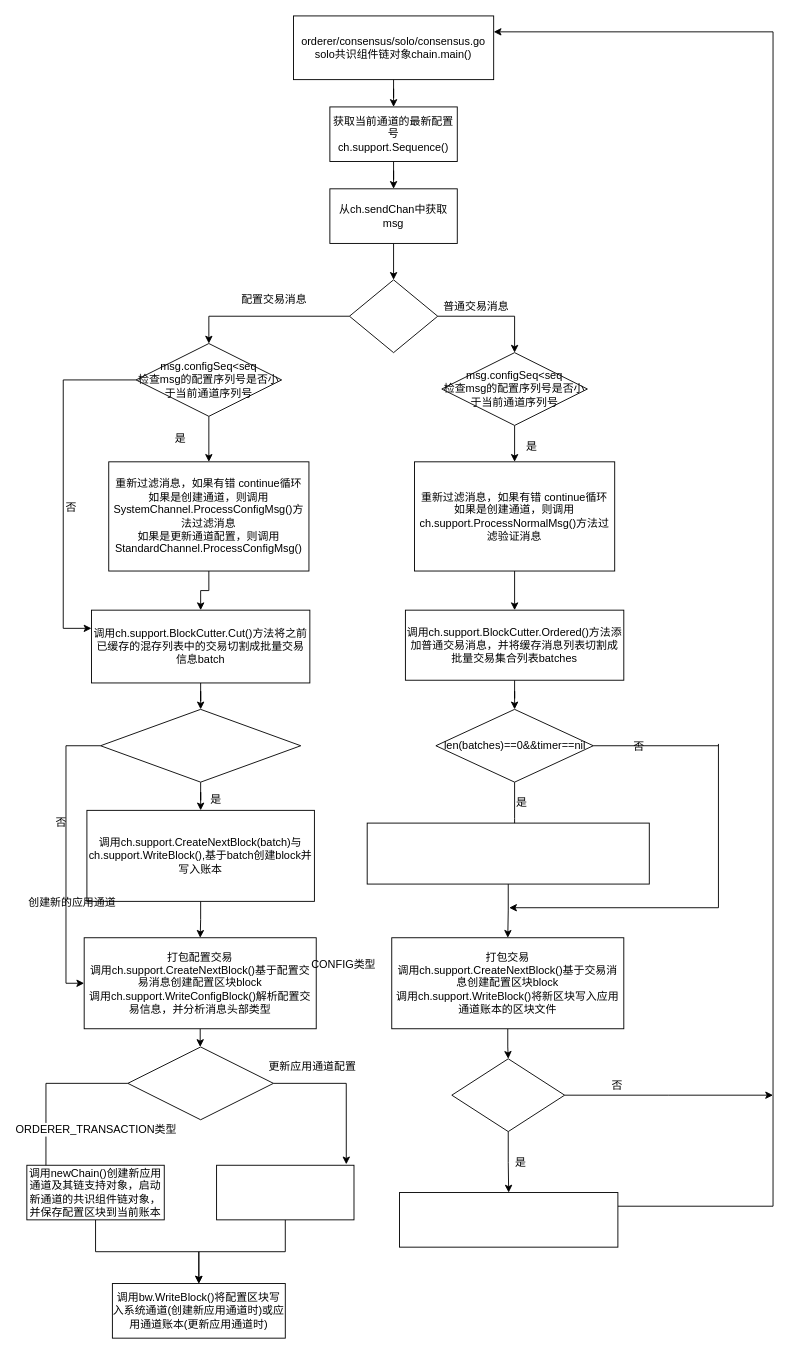
This 797x1354 diagram has some shape labels left out. The centre of each missing label's shape, as x and y in pixels:
batch ！= nil 如果batch为nil则将当前配置交易出块: pixel 200 745
len(batch) > 0: pixel 508 1095
是否是配置交易: pixel 393 316
消息头部类型: pixel 200 1083
设置定时器timer=nil，取消定时器 发送TIMETOCUT类型消息: pixel 508 1219
调用time.After(ch.support.SharedConfig().BatchTimeout())设置定时器，周期性的发送TIMETOOUT类型消息: pixel 507 853
通道通道链支持对象更新底层的通道配置实体对象: pixel 285 1192
